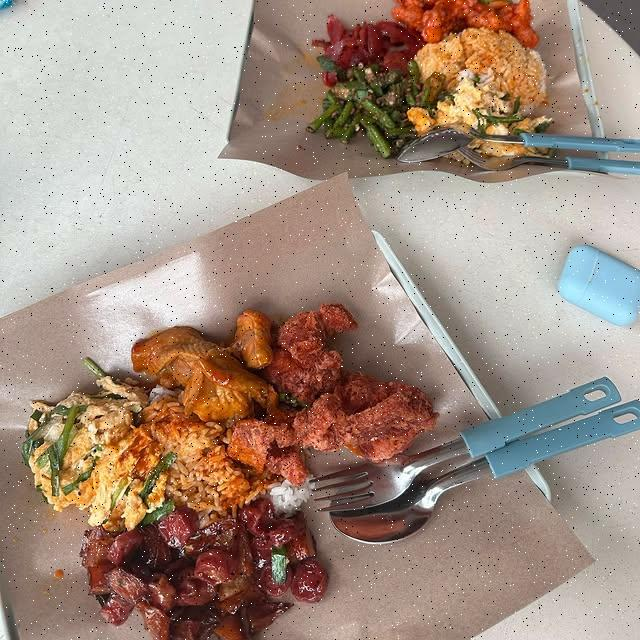Chicken: (80, 500, 328, 639), (133, 310, 276, 421)
Egg: (23, 358, 175, 528), (408, 78, 509, 141)
Green veg: (308, 55, 418, 158)
Pork: (229, 304, 437, 485), (393, 0, 538, 48)
Rice: (151, 403, 309, 519), (415, 28, 545, 130)
